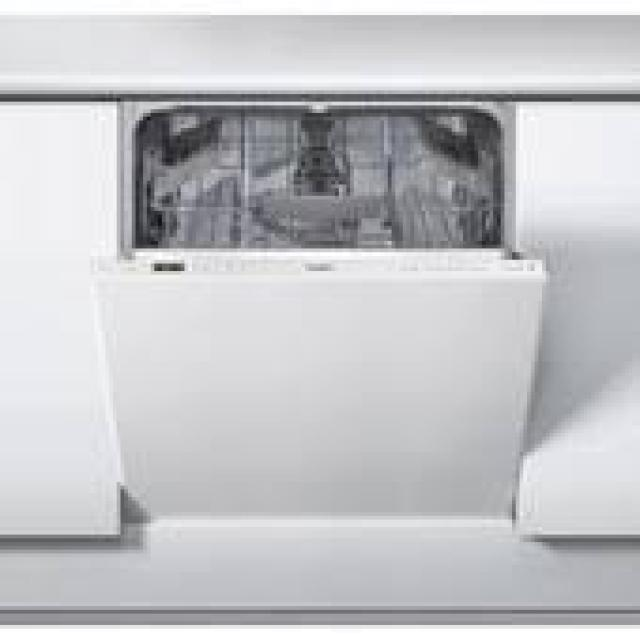dishwasher: (68, 83, 561, 542)
